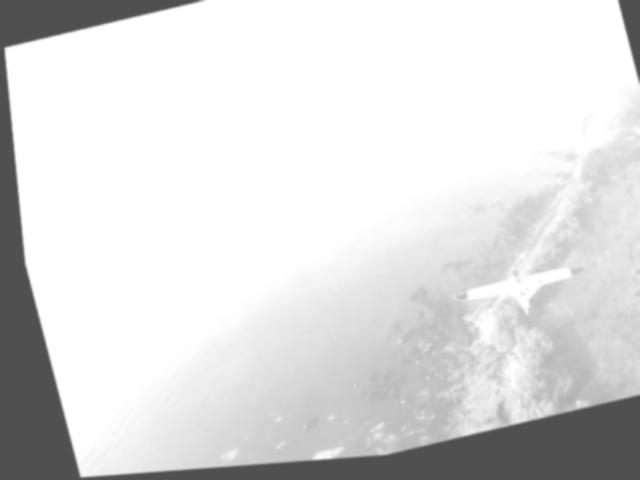hedef: (437, 256, 596, 344)
